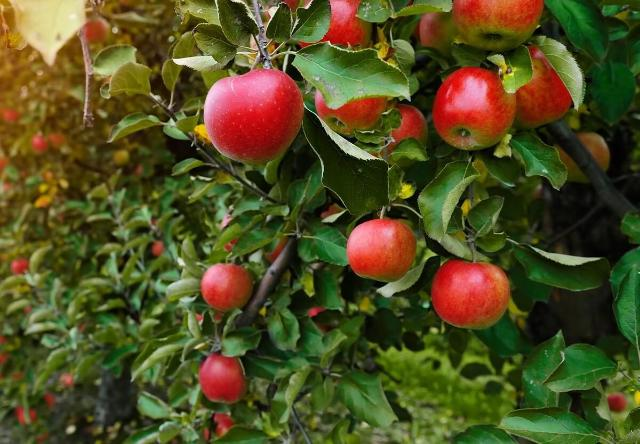Apple: (204, 69, 304, 164), (432, 68, 516, 150), (431, 260, 510, 330), (515, 46, 571, 128), (454, 0, 543, 51), (346, 219, 416, 282), (315, 90, 388, 135), (320, 0, 372, 48), (201, 264, 252, 311), (199, 354, 245, 403)
